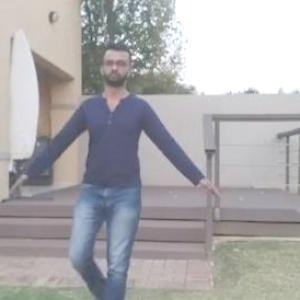land: (26, 45, 219, 299)
